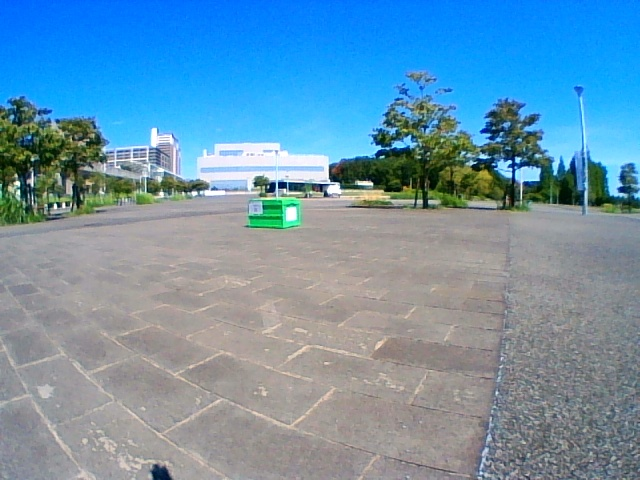green_box: (248, 198, 299, 229)
tag: (249, 202, 262, 214)
